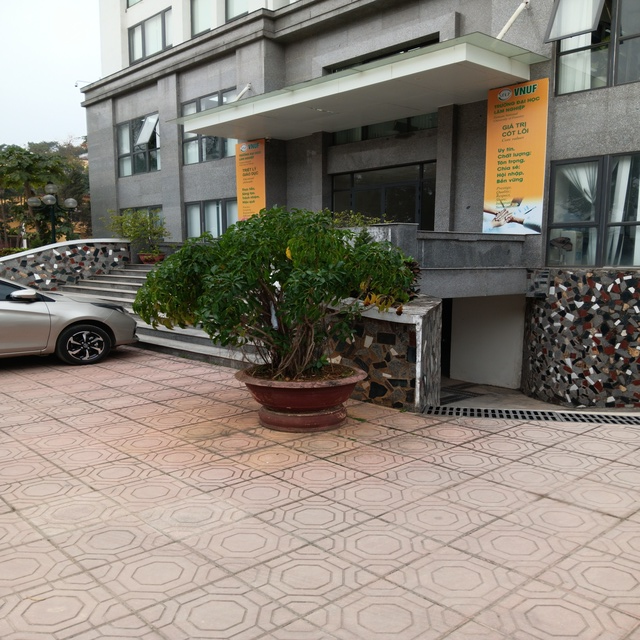caycanh: (149, 201, 421, 436)
